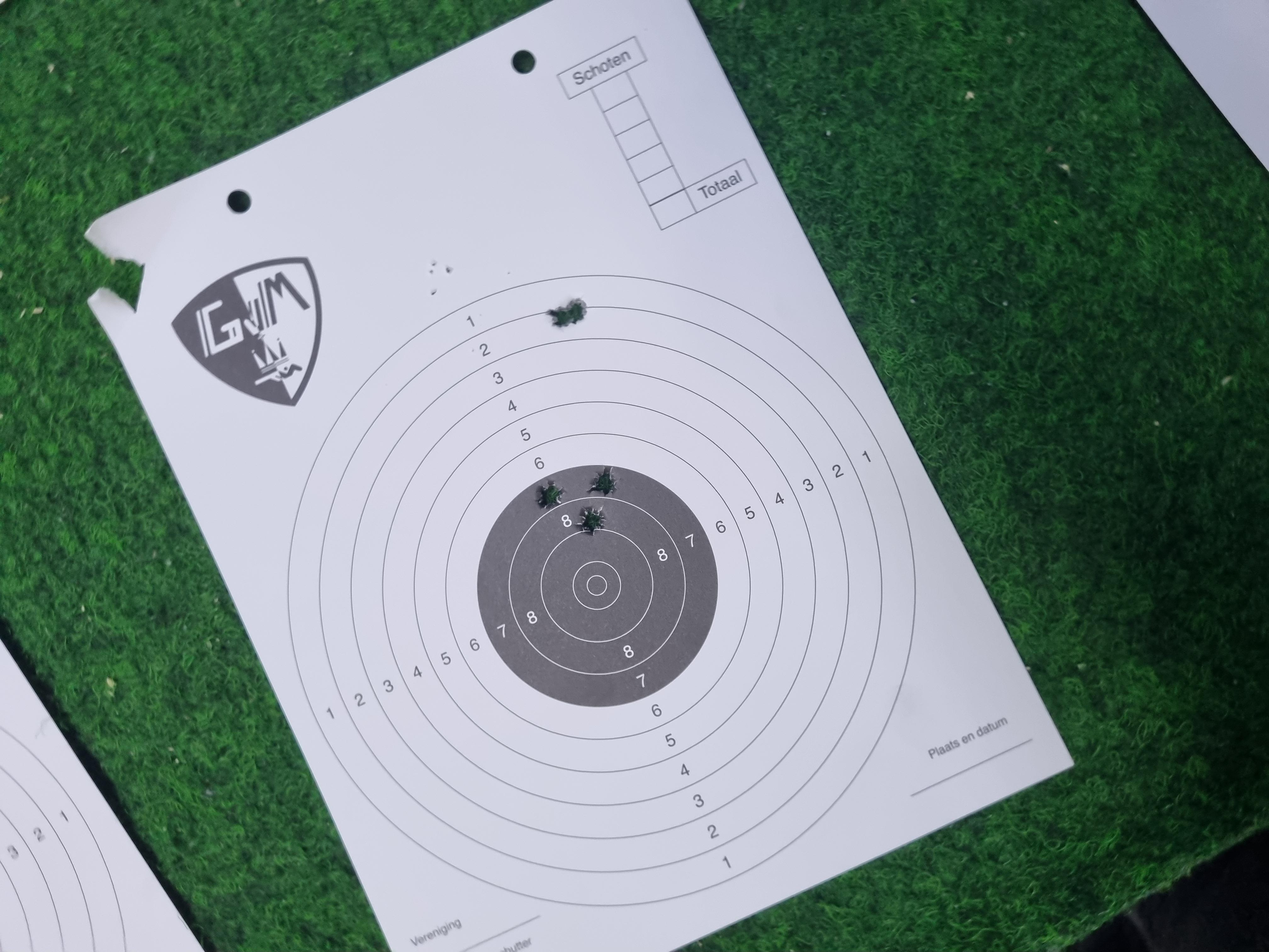hole: (586, 400, 632, 425), (606, 441, 648, 464), (554, 432, 593, 454), (830, 409, 861, 426), (838, 426, 870, 441)
